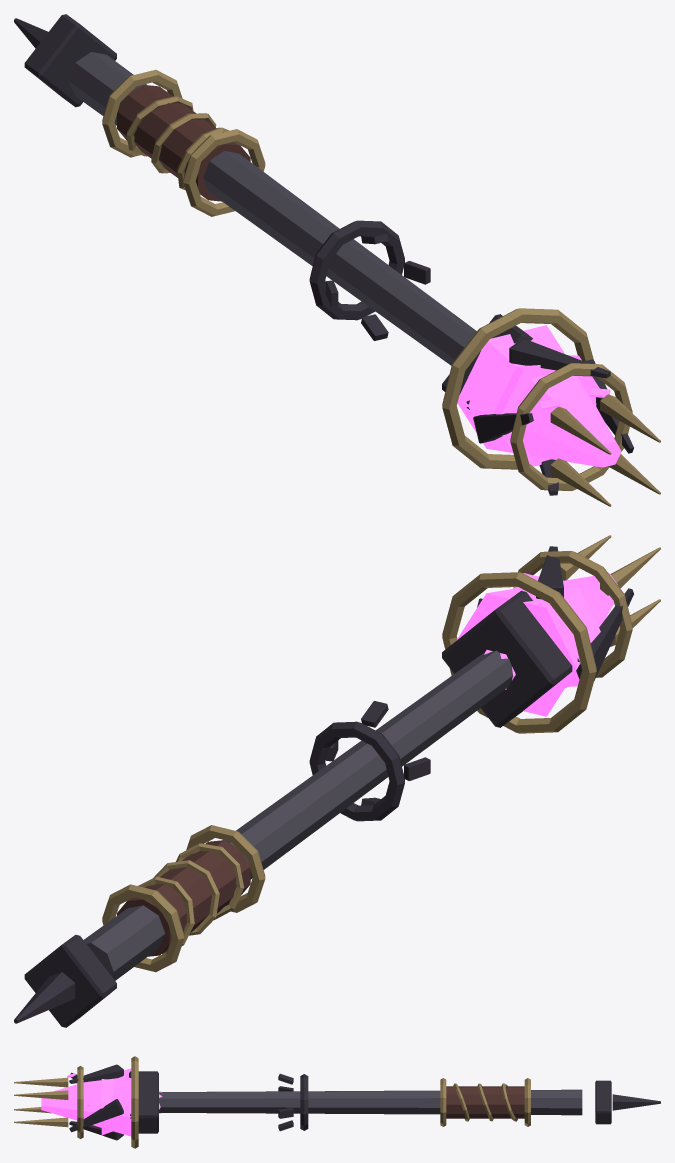
The model's file is VoidScepter.fbx.
The picture shows the model from 3 angles, top to bottom: view 1: azimuth 30°, elevation 25°; view 2: azimuth 150°, elevation 25°; view 3: azimuth 270°, elevation 25°; orthographic projection. The views are drawn at different scales.
Visible parts, largest first — view 1: FallenScepter_Metal, FallenScepter_Crystal, FallenScepter_Grip; view 2: FallenScepter_Metal, FallenScepter_Crystal, FallenScepter_Grip; view 3: FallenScepter_Metal, FallenScepter_Crystal, FallenScepter_Grip.
Part boxes in pixels (<box>): FallenScepter_Metal: <box>14,14,660,506</box>; FallenScepter_Crystal: <box>457,325,621,467</box>; FallenScepter_Grip: <box>117,85,250,201</box>; FallenScepter_Metal: <box>14,535,660,1027</box>; FallenScepter_Crystal: <box>456,573,620,716</box>; FallenScepter_Grip: <box>117,840,250,956</box>; FallenScepter_Metal: <box>14,1056,660,1148</box>; FallenScepter_Crystal: <box>41,1068,162,1136</box>; FallenScepter_Grip: <box>446,1086,524,1118</box>.
Bounding box in the file's own units: 0.308 × 0.308 × 2.14.
